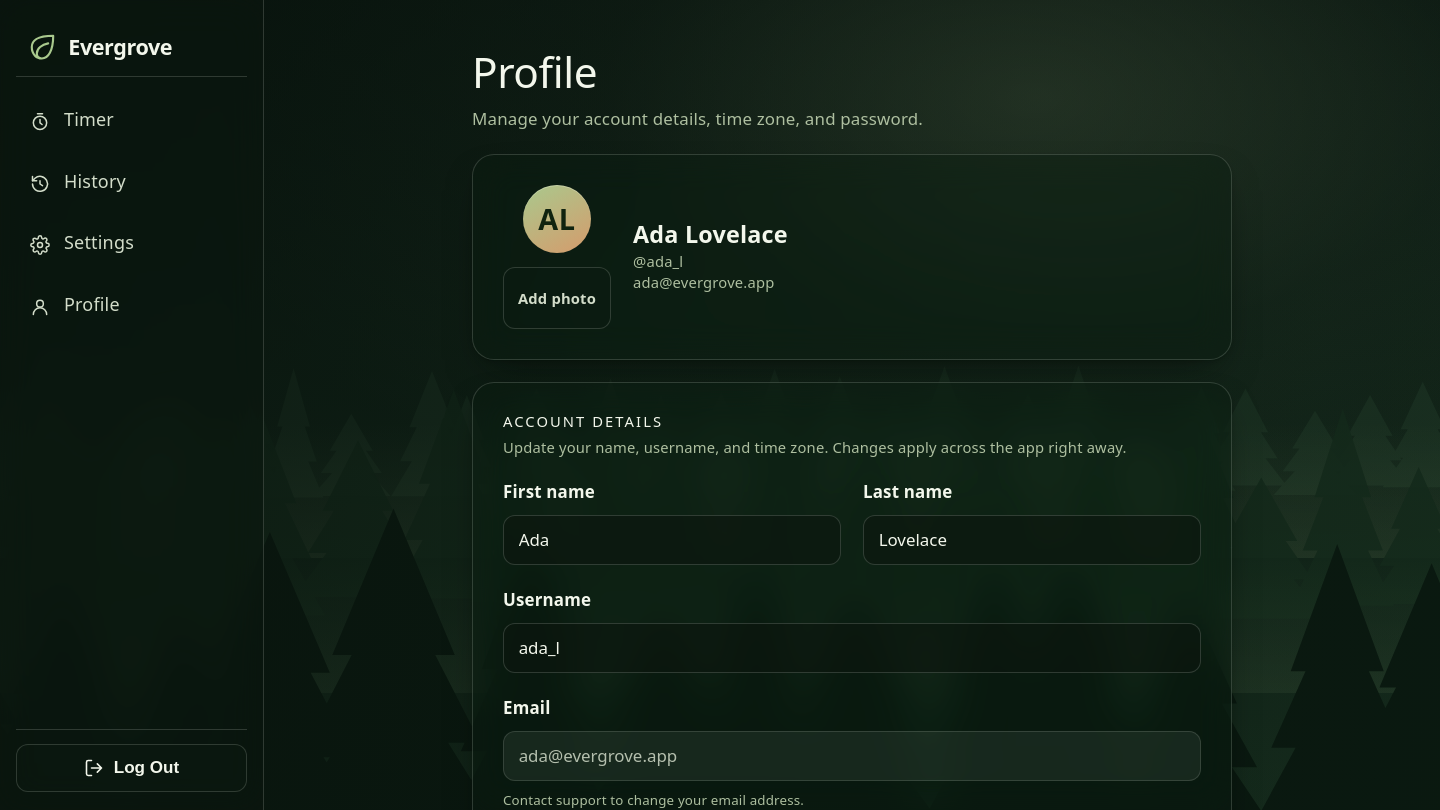
it: Suite J2 — Staying current with the server › J2.3 — keeps what is being typed while adopting the fields nobody touched
The width and height of the screenshot is (1440, 810).
Replace the text in the field labelled "First name" with "Augusta" at point(672, 540), box [519,516,825,564]
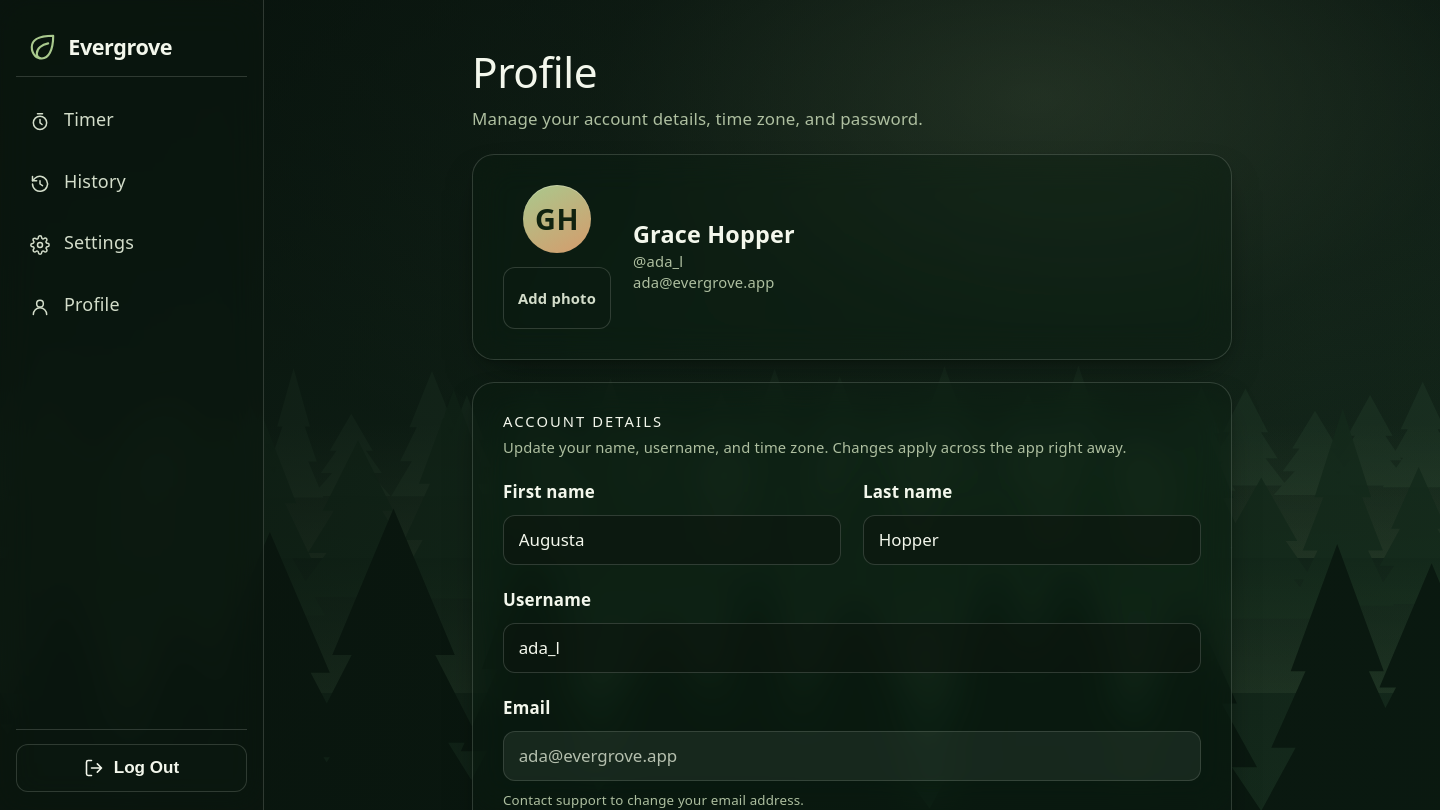
Result: the field labelled "Last name" holds "Hopper" at [879,516,1185,564]
